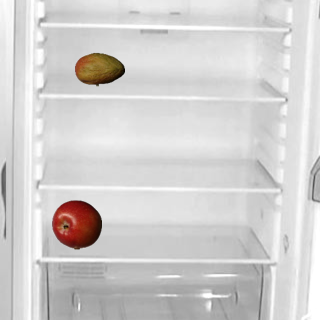Apple Braeburn: (51, 199, 101, 249)
Papaya: (74, 44, 124, 94)
